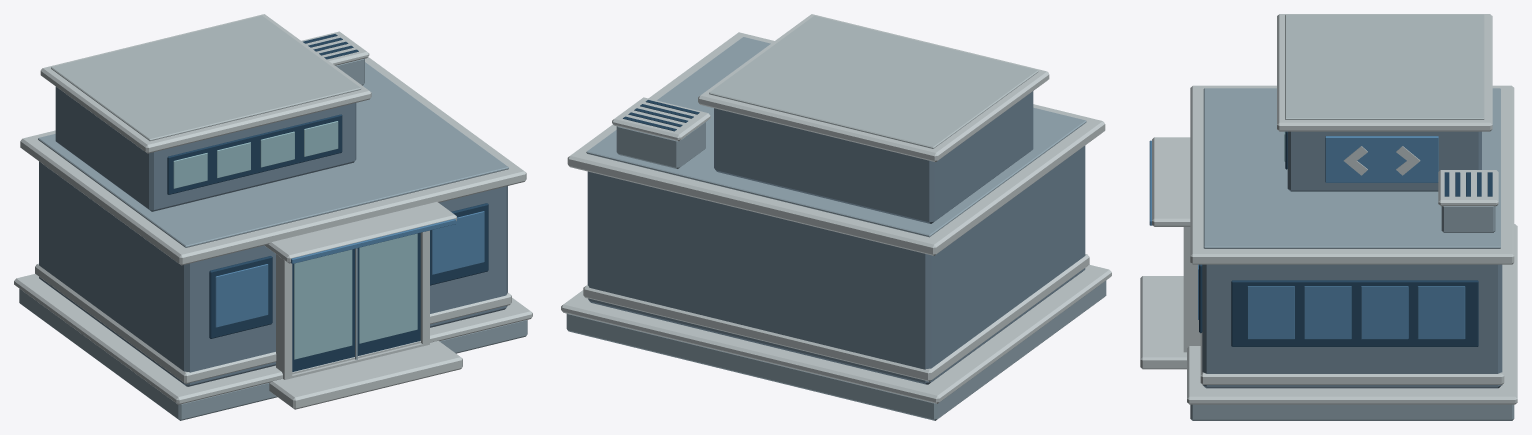
File: campus_lab_v01.glb
3 renders of one model, left to right at view 1: azimuth 30°, elevation 25°; view 2: azimuth 150°, elevation 25°; view 3: azimuth 270°, elevation 25°, orthographic. The views are drawn at different scales.
Visible parts, largest first — view 1: Lab; view 2: Lab; view 3: Lab.
Part boxes in pixels (x1,y1,x2,y2): Lab: [14, 14, 532, 420]; Lab: [561, 14, 1111, 420]; Lab: [1140, 14, 1517, 420].
Size of the model in its own units: 7.65 by 5 by 6.98.
